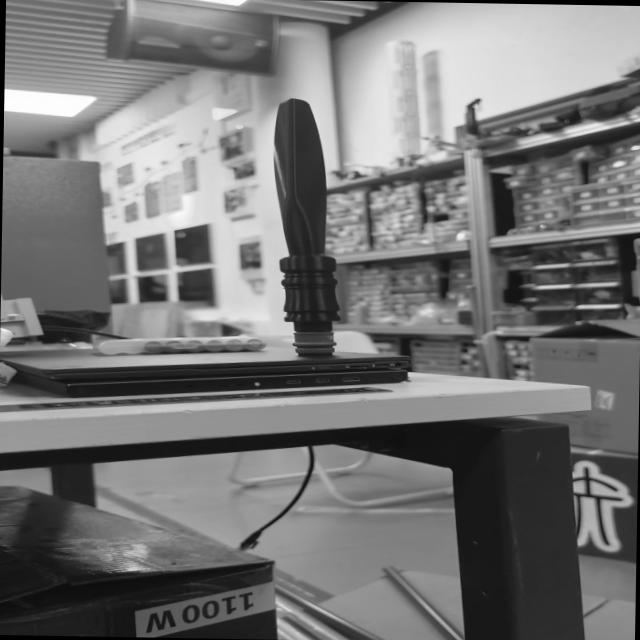base: (282, 327, 344, 359)
